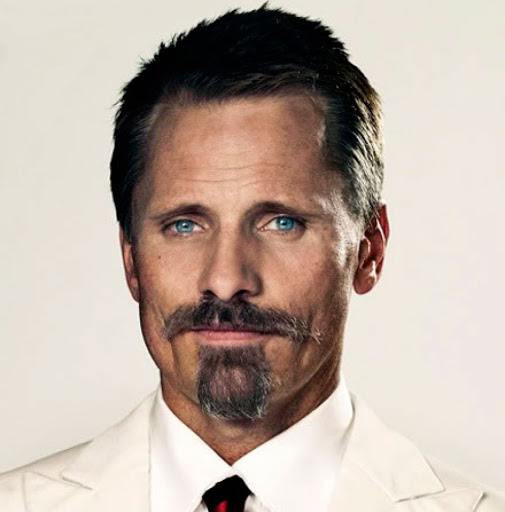beard: (158, 305, 324, 426)
